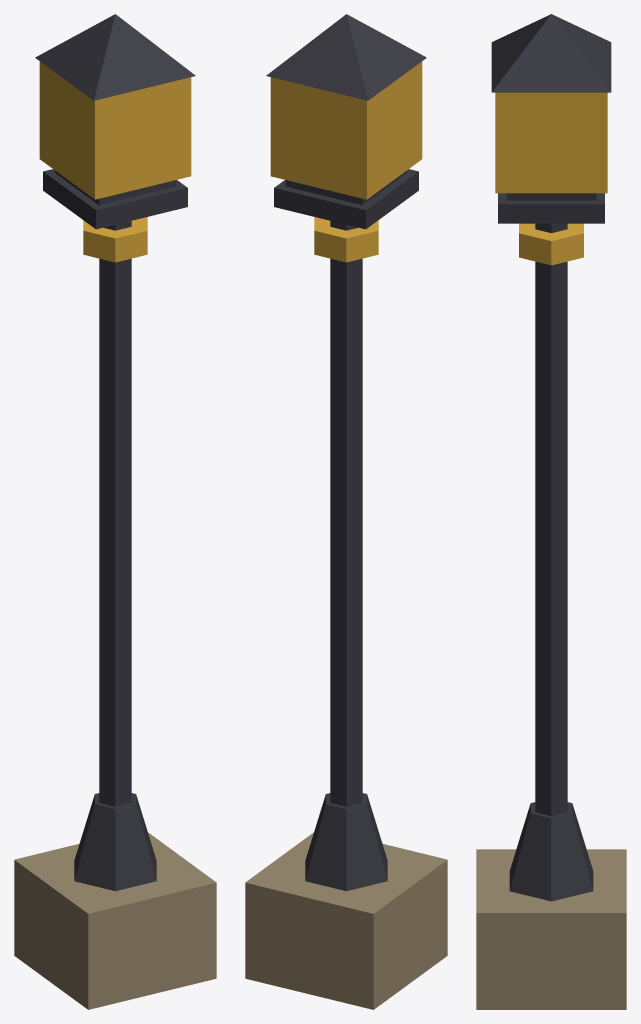
File: Lamp_Post_Single.fbx
3 views of the same model, side by side, from view 1: azimuth 30°, elevation 25°; view 2: azimuth 150°, elevation 25°; view 3: azimuth 270°, elevation 25° (orthographic).
Visible parts, largest first — view 1: Lamp_Post_Single; view 2: Lamp_Post_Single; view 3: Lamp_Post_Single.
Part boxes in pixels (x1,y1,x2,y2): Lamp_Post_Single: (14, 14, 216, 1009); Lamp_Post_Single: (245, 14, 447, 1009); Lamp_Post_Single: (476, 14, 626, 1009).
Bounding box in the file's own units: 0.56 × 3.97 × 0.56.
